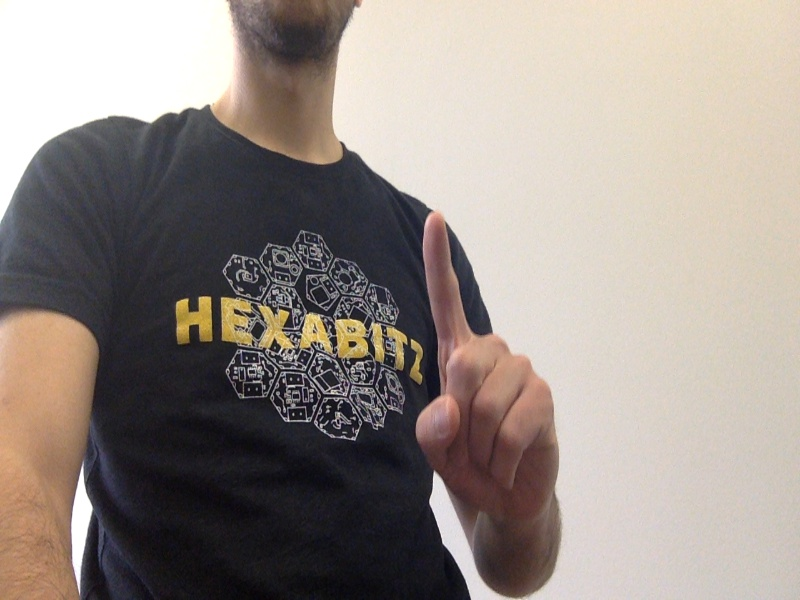1-hand: (415, 214, 560, 511)
